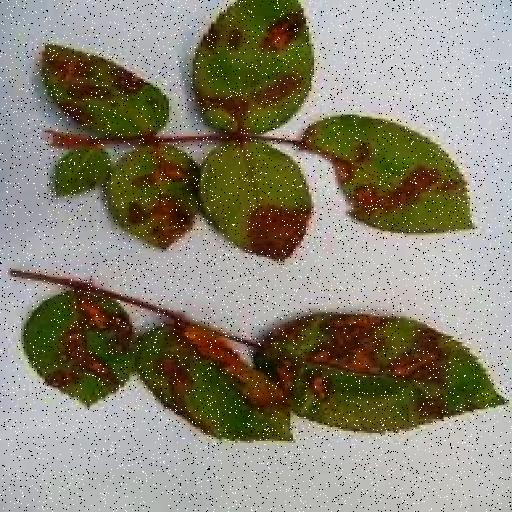downy_mildew: (256, 315, 504, 432), (304, 115, 472, 233), (138, 325, 290, 440), (193, 0, 314, 132), (201, 141, 311, 260), (24, 291, 134, 405), (43, 46, 168, 136), (109, 147, 197, 249), (56, 147, 113, 195)
